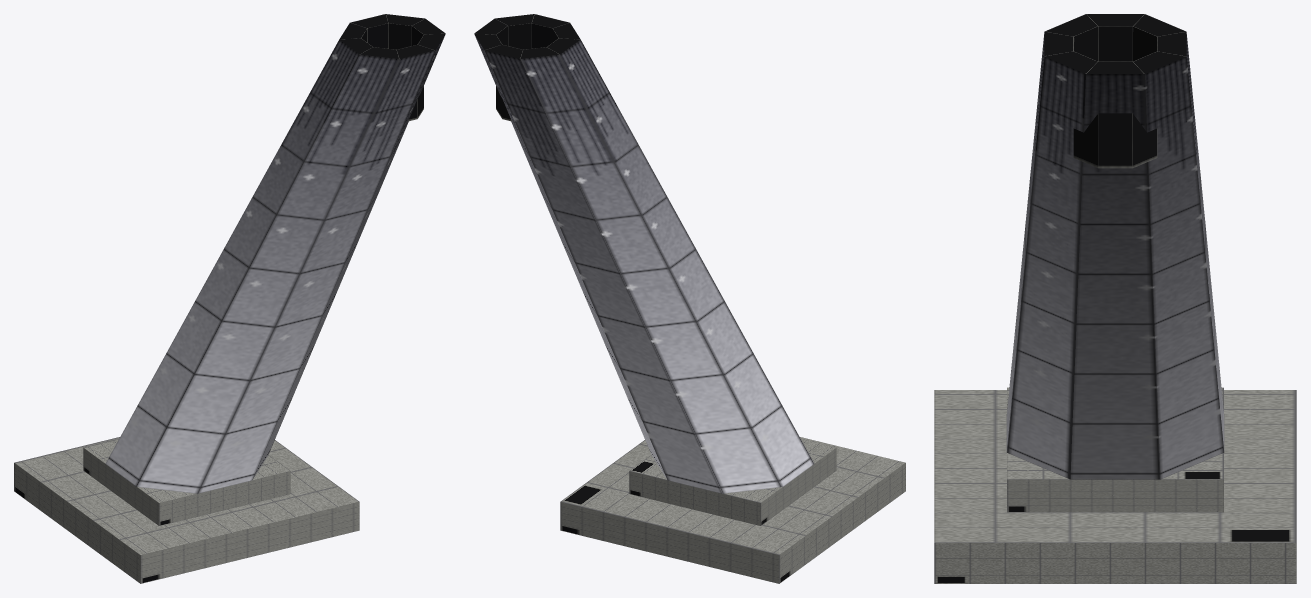
File: exhaust_tower.obj
3 renders of one model, left to right at view 1: azimuth 30°, elevation 25°; view 2: azimuth 150°, elevation 25°; view 3: azimuth 270°, elevation 25°, orthographic. The views are drawn at different scales.
Parts seen in each view (by area): view 1: exhaust_tower; view 2: exhaust_tower; view 3: exhaust_tower.
Boxes of the visible parts, left/top/right/bottom form: exhaust_tower: left=14, top=14, right=445, bottom=583; exhaust_tower: left=474, top=14, right=905, bottom=583; exhaust_tower: left=934, top=14, right=1296, bottom=583.
Bounding box in the file's own units: 6.54 × 7.4 × 4.
